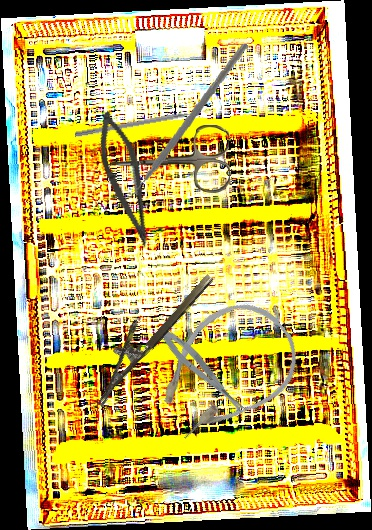Cannula: (133, 282, 316, 461)
Chopper: (114, 34, 248, 208)
Iris Scissors: (105, 124, 231, 197)
Micro Scissor: (85, 107, 168, 252), (155, 323, 251, 421)
Needle Holder: (76, 258, 216, 408)
Pusher: (74, 108, 209, 139)
